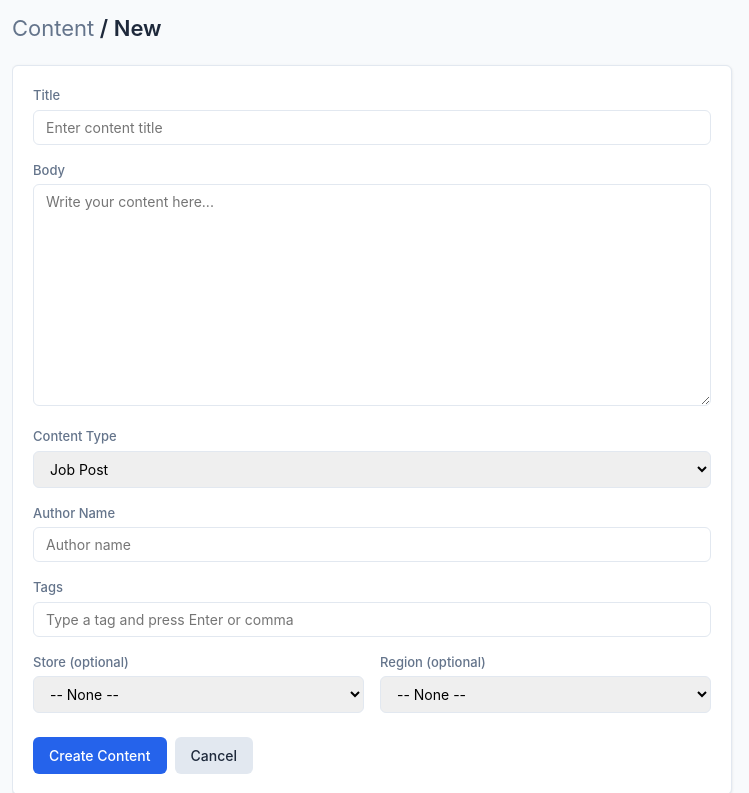
it: ContentCreatePage — behavior tests › shows validation error when title is empty on submit
Step 1. Click the button "Create Content" → (100, 756), box [33,737,166,774]
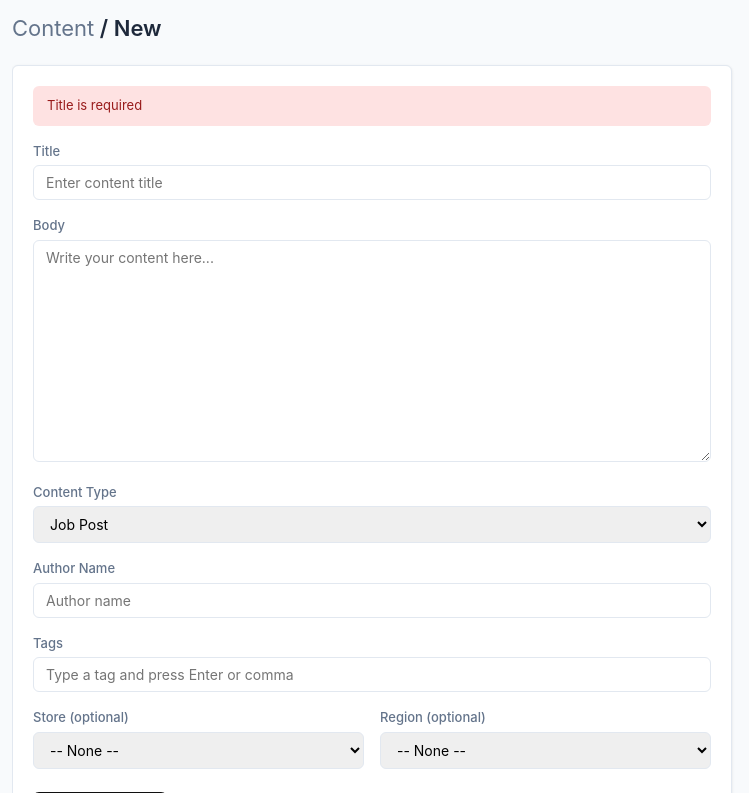
Result: the text "Title is required" is shown at [33,86,711,126]
